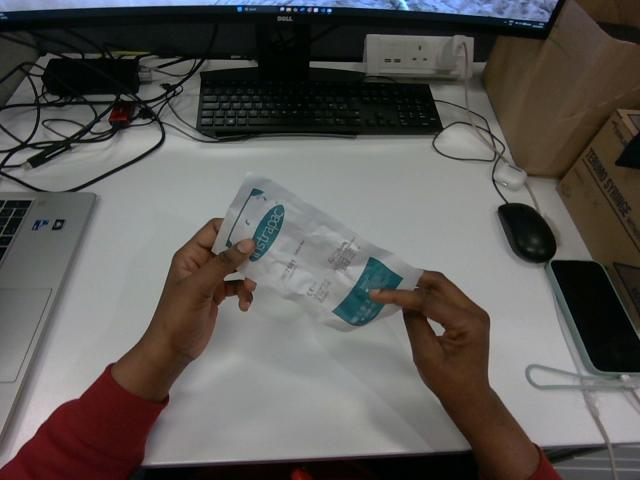gallipot: (213, 173, 421, 330)
